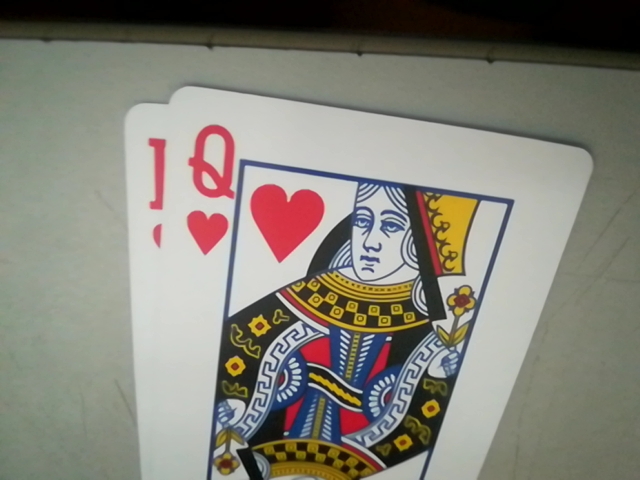hx q: (176, 125, 238, 255)
